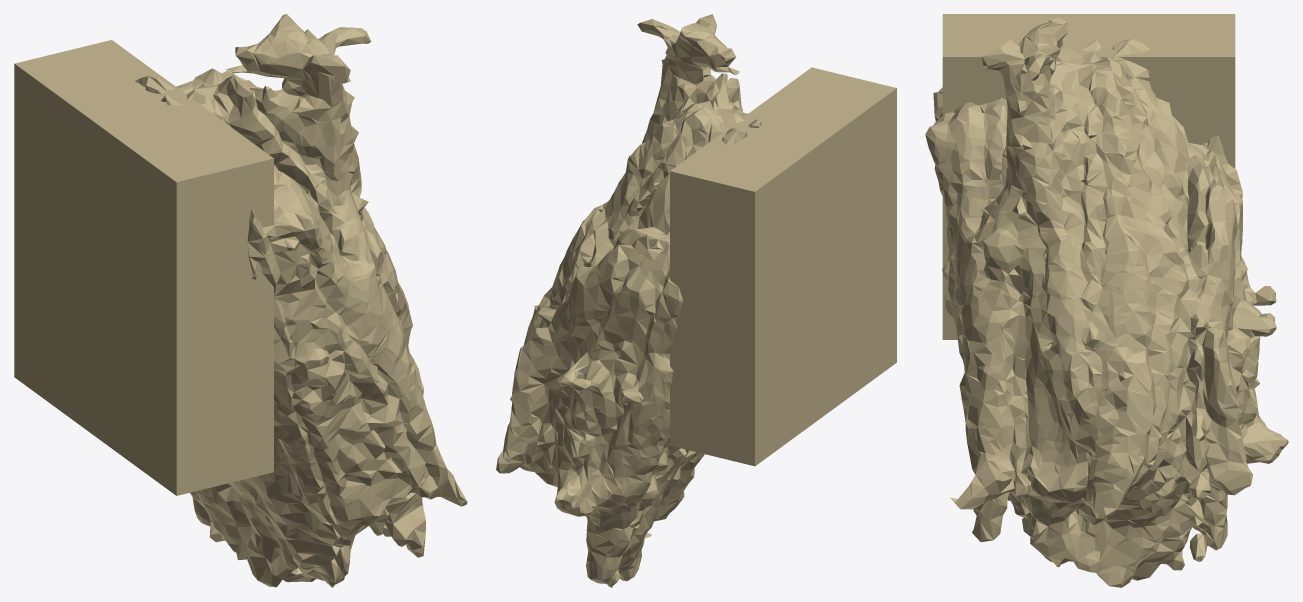
Rendered from improved.glb.
3 views of the same model, side by side, from view 1: azimuth 30°, elevation 25°; view 2: azimuth 150°, elevation 25°; view 3: azimuth 270°, elevation 25° (orthographic). The views are drawn at different scales.
Parts seen in each view (by area): view 1: world; view 2: world; view 3: world.
Boxes of the visible parts, left/top/right/bottom form: world: left=14, top=14, right=467, bottom=587; world: left=496, top=14, right=896, bottom=587; world: left=925, top=14, right=1288, bottom=587.
Bounding box in the file's own units: 1.32 × 2.22 × 1.34.
